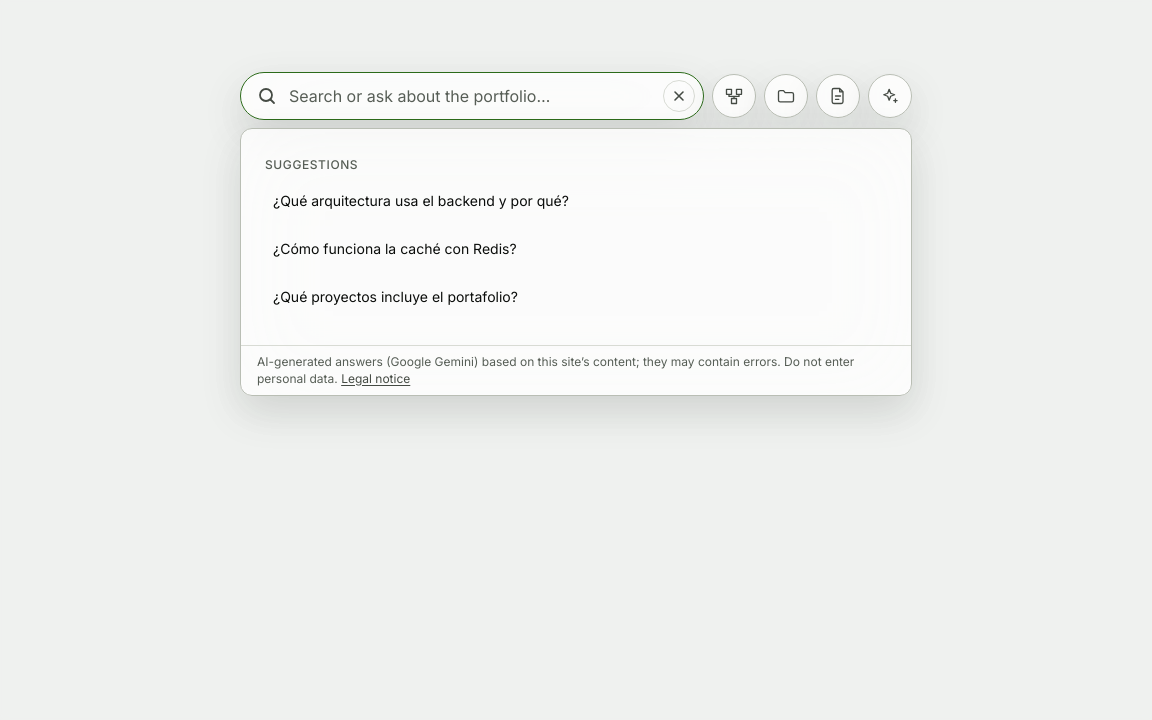
Test case: RagChatComponent (command palette) › groups the results as you type, with the first one active and the question to the assistant last
In the dropdown with id "rag-prompt": (470, 96) [289, 84, 651, 108], type "limiter"
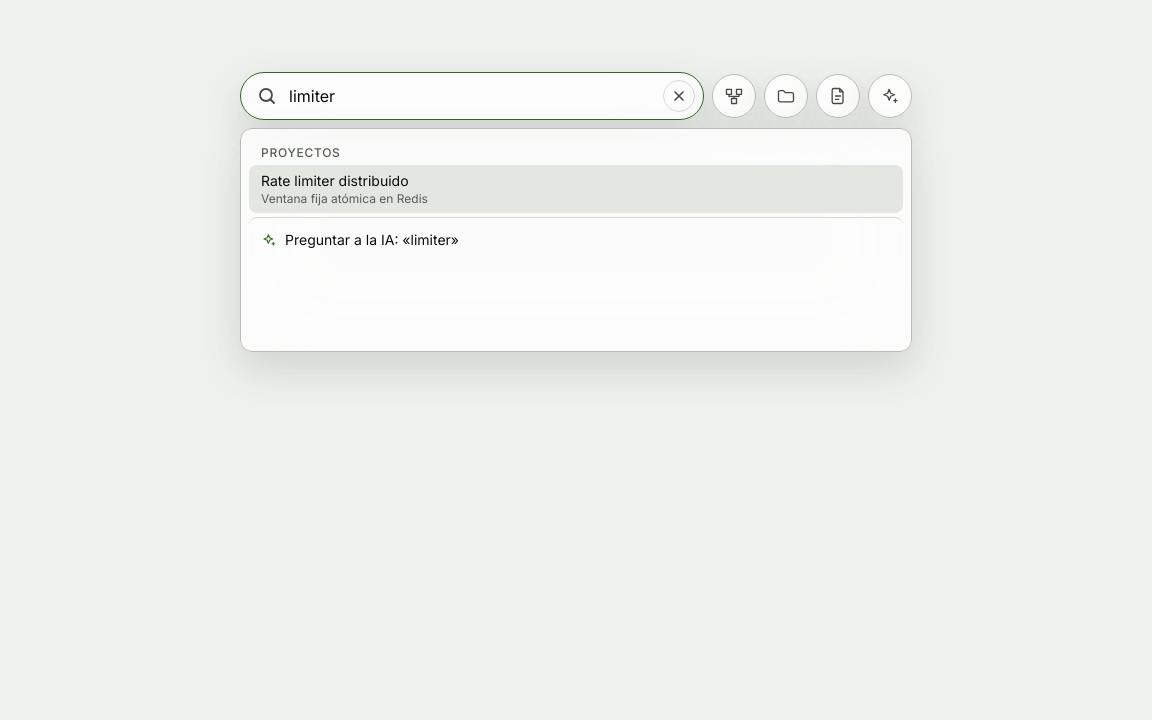
expect the dropdown with id "rag-prompt" is expanded: met, box [289, 84, 651, 108]
expect the option "Rate limiter distribuido Ventana fija atómica en Redis" is shown: met, box [249, 165, 903, 213]
